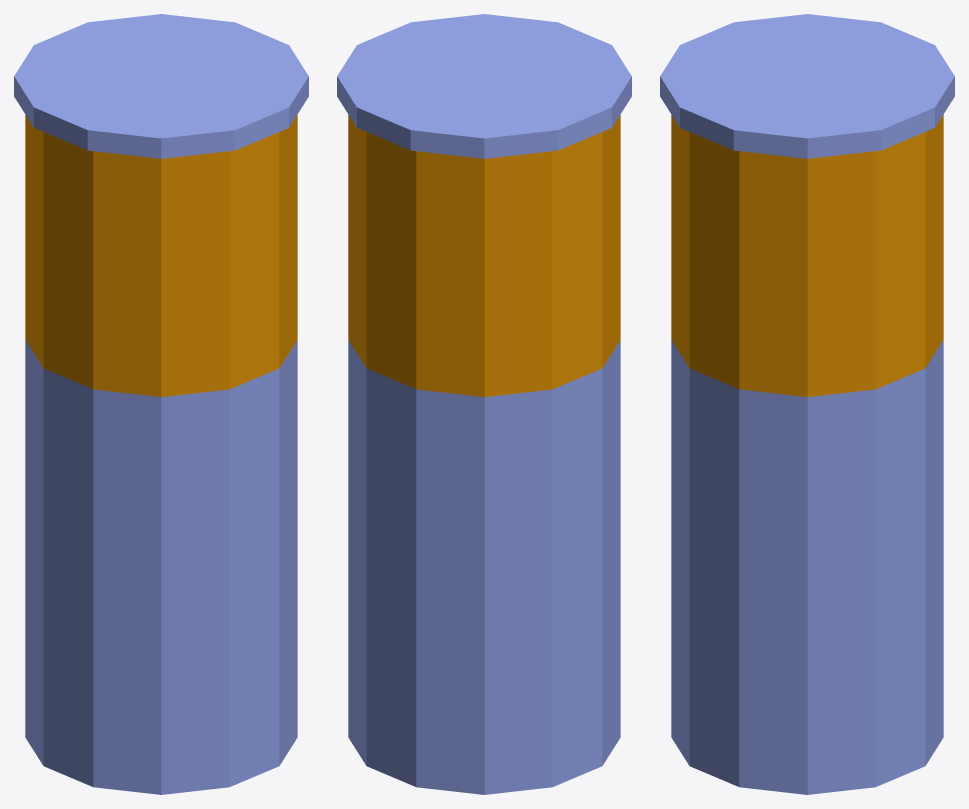
File: Ürün73.fbx
3 views of the same model, side by side, from view 1: azimuth 30°, elevation 25°; view 2: azimuth 150°, elevation 25°; view 3: azimuth 270°, elevation 25° (orthographic).
Visible parts, largest first — view 1: pCylinder45; view 2: pCylinder45; view 3: pCylinder45.
Boxes of the visible parts, <box> form: pCylinder45: <box>14,14,308,794</box>; pCylinder45: <box>337,14,631,794</box>; pCylinder45: <box>660,14,954,794</box>.
Size of the model in its own units: 11.6 by 28.73 by 11.6.
